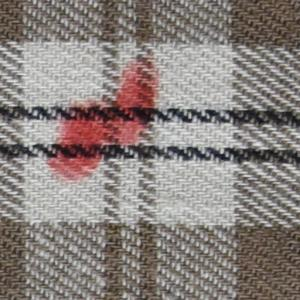Stain: (39, 54, 167, 188)
